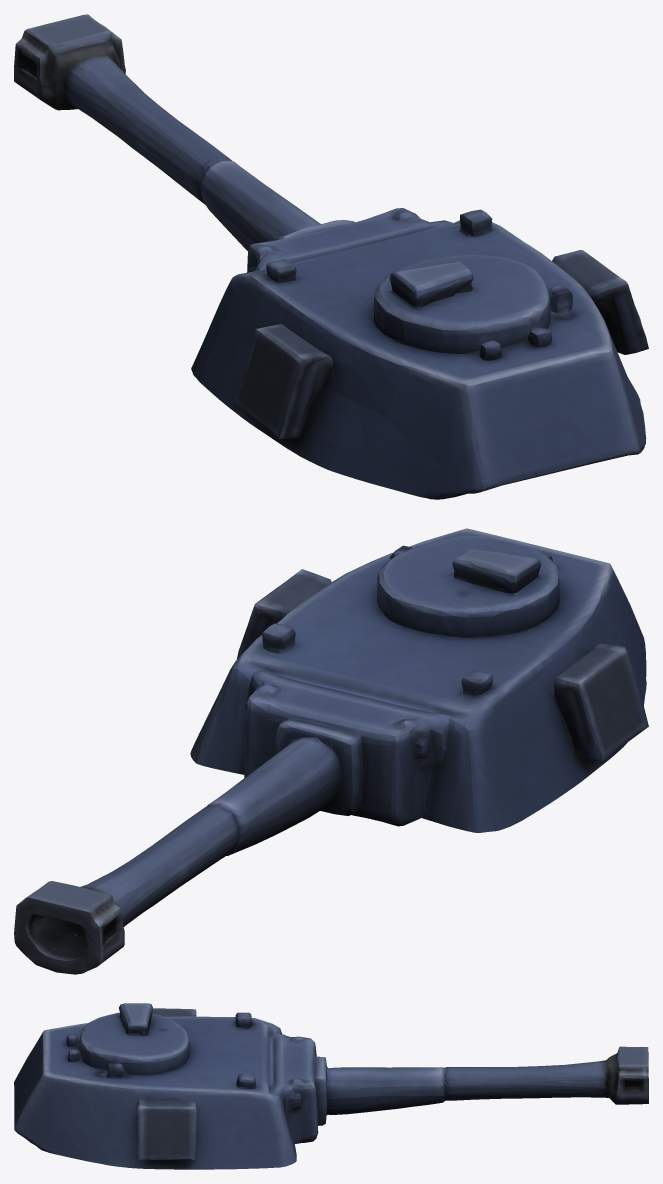
Rendered from m4_sherman_turret_enemy.glb.
3 views of the same model, one above another, from view 1: azimuth 30°, elevation 25°; view 2: azimuth 150°, elevation 25°; view 3: azimuth 270°, elevation 25° (orthographic). The views are drawn at different scales.
Parts seen in each view (by area): view 1: turret; view 2: turret; view 3: turret.
Part boxes in pixels (box(x1,y1,x2,y2)): turret: box(14, 14, 648, 499); turret: box(14, 528, 648, 974); turret: box(14, 1003, 648, 1169).
Size of the model in its own units: 0.3238 by 0.129 by 0.7651.
Materials: 2 (1 with a texture image).
